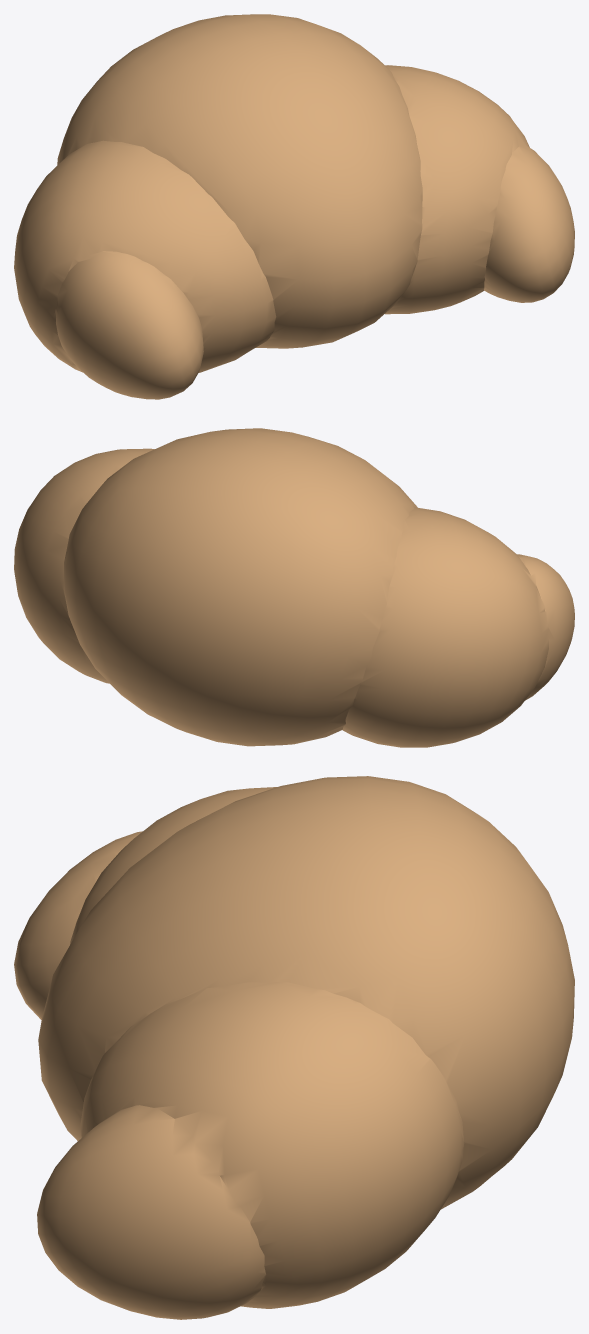
The picture shows the model from 3 angles, top to bottom: view 1: azimuth 30°, elevation 25°; view 2: azimuth 150°, elevation 25°; view 3: azimuth 270°, elevation 25°; orthographic projection. The views are drawn at different scales.
Visible parts, largest first — view 1: Croissant_2; view 2: Croissant_2; view 3: Croissant_2.
Part boxes in pixels (bbox=[...]): Croissant_2: bbox=[14, 14, 574, 399]; Croissant_2: bbox=[14, 428, 574, 747]; Croissant_2: bbox=[14, 776, 574, 1319].
Bounding box in the file's own units: 3.51 × 1.87 × 2.42.
